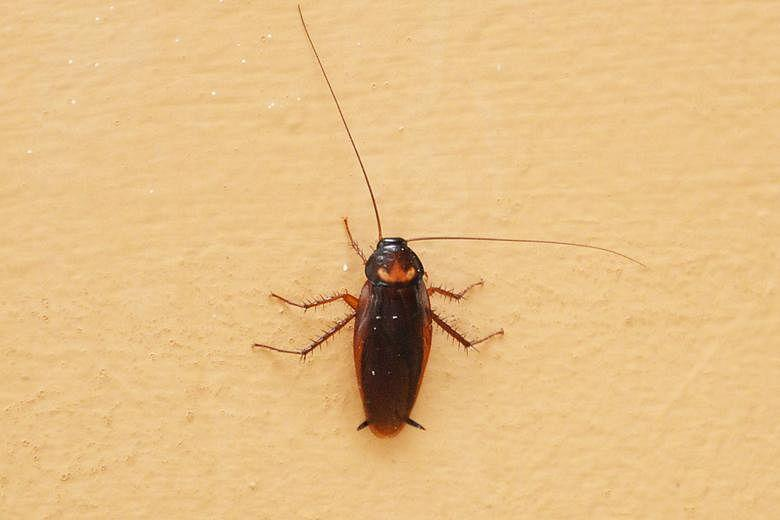cockroach: (346, 222, 443, 443)
